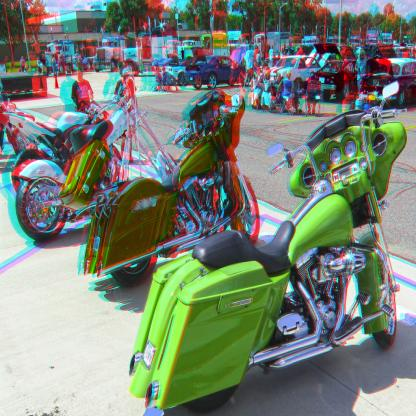Car: (359, 54, 416, 110), (186, 52, 247, 92), (303, 54, 349, 104), (268, 55, 326, 87)
